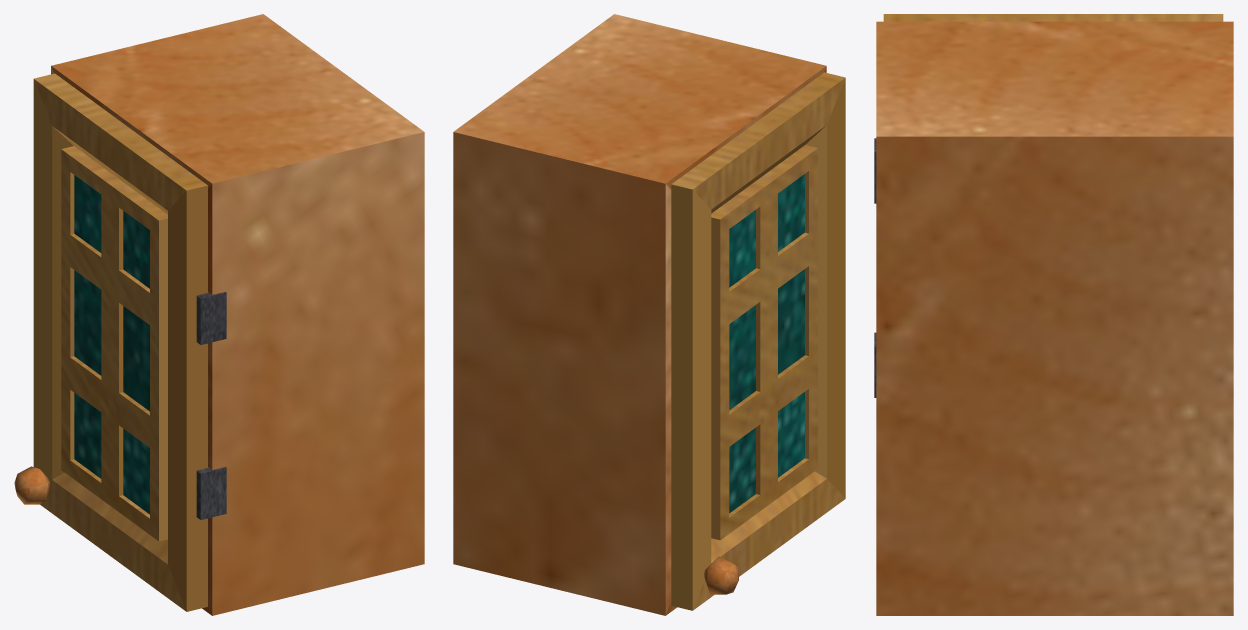
File: kitchen  wall store2.FBX
3 renders of one model, left to right at view 1: azimuth 30°, elevation 25°; view 2: azimuth 150°, elevation 25°; view 3: azimuth 270°, elevation 25°, orthographic. The views are drawn at different scales.
Visible parts, largest first — view 1: Box001, Object003, Object005, Box002, Object002; view 2: Box001, Object003, Object005, Object002; view 3: Box001, Object003.
Boxes of the visible parts, x1,y1,x2,y2 form: Box001: (51, 14, 424, 615); Object003: (33, 73, 207, 611); Object005: (74, 175, 149, 514); Box002: (196, 291, 226, 519); Object002: (14, 466, 49, 504); Box001: (453, 14, 826, 615); Object003: (671, 72, 845, 610); Object005: (729, 174, 804, 513); Object002: (703, 556, 738, 594); Box001: (876, 21, 1233, 615); Object003: (883, 14, 1223, 21).
Bounding box in the file's own units: 41.79 × 64.8 × 44.06.
Materials: 5 (5 with a texture image).
